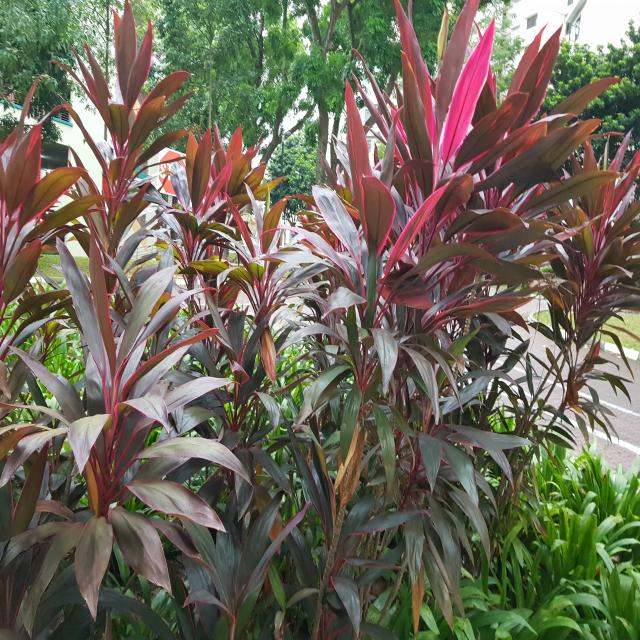Ti: (282, 124, 516, 443), (362, 4, 618, 278), (26, 237, 234, 545)
